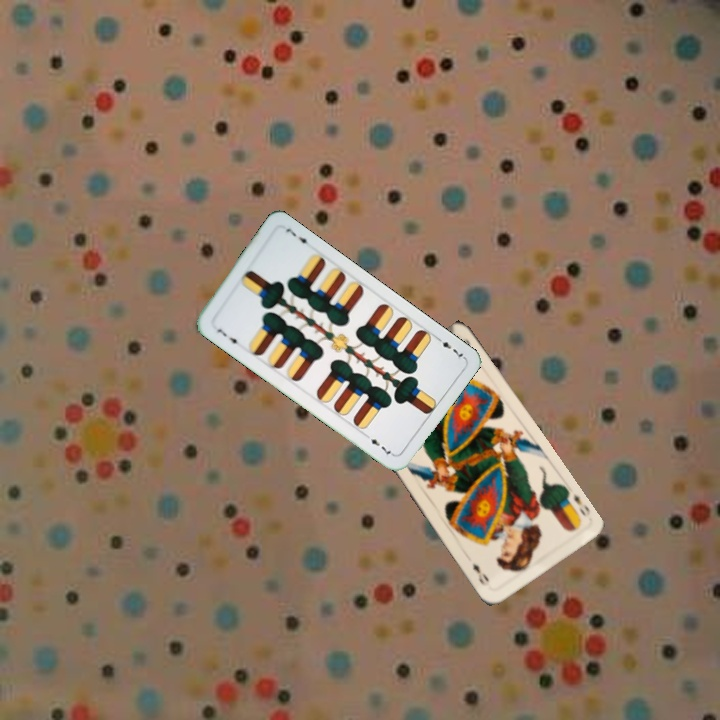E7: (432, 332, 467, 361), (213, 324, 242, 349)
EO: (569, 490, 593, 519)
